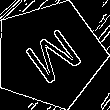M_SE: (15, 21, 84, 88)
